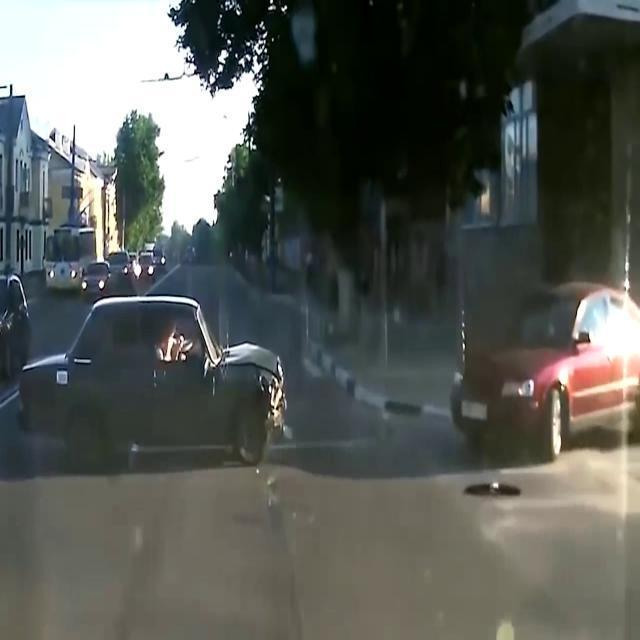accident: (16, 279, 640, 496)
non-accident: (44, 225, 112, 301), (82, 250, 134, 300), (108, 251, 154, 285), (135, 247, 167, 283)
